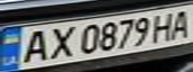0: (75, 20, 103, 55)
7: (115, 16, 136, 50)
8: (96, 19, 121, 52)
9: (130, 15, 157, 47)
A: (15, 27, 54, 64), (166, 7, 193, 39)
H: (148, 10, 178, 43)
X: (42, 24, 78, 61)
